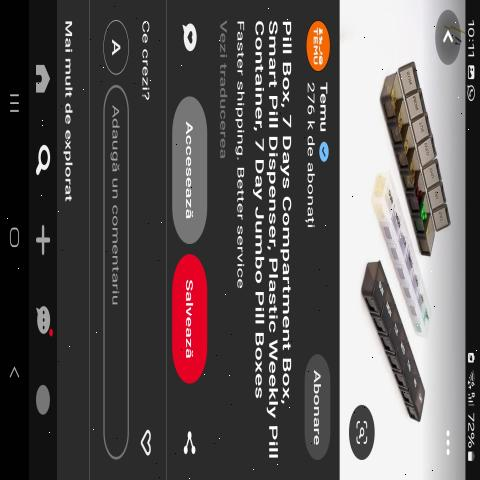PillBox: (375, 29, 453, 263)
